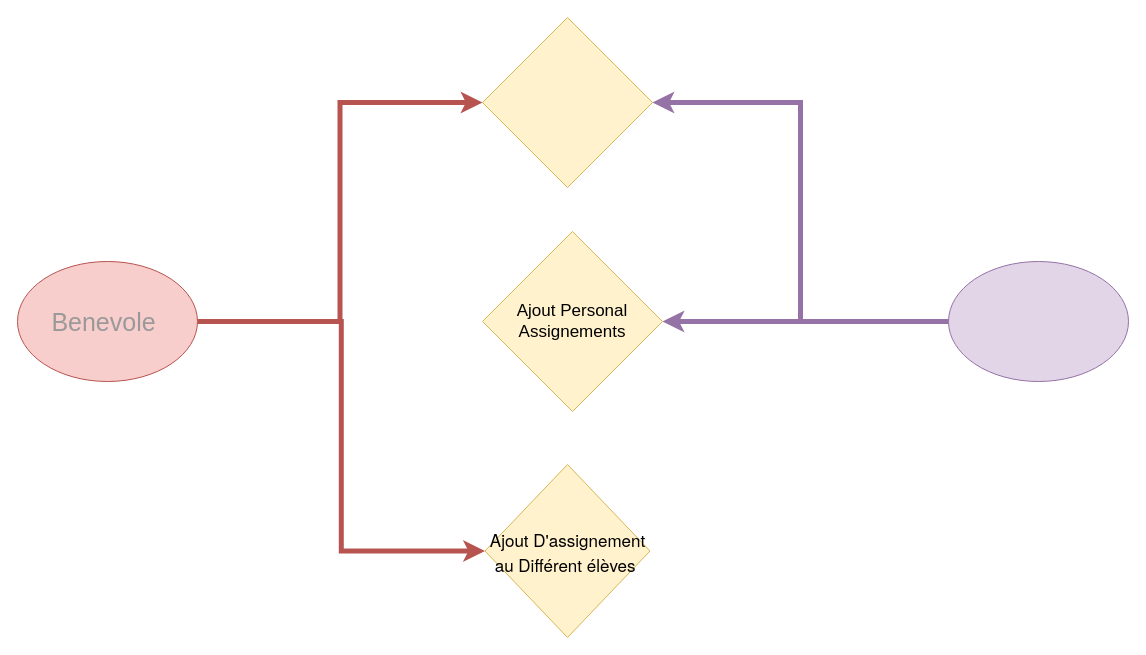
Image size: 1146x655. Some labels were removed from this diagram. Each missing label, with the box of its shape:
Affichage Des deux types Assignements: (482, 16, 652, 188)
Eleve: (948, 260, 1128, 382)
